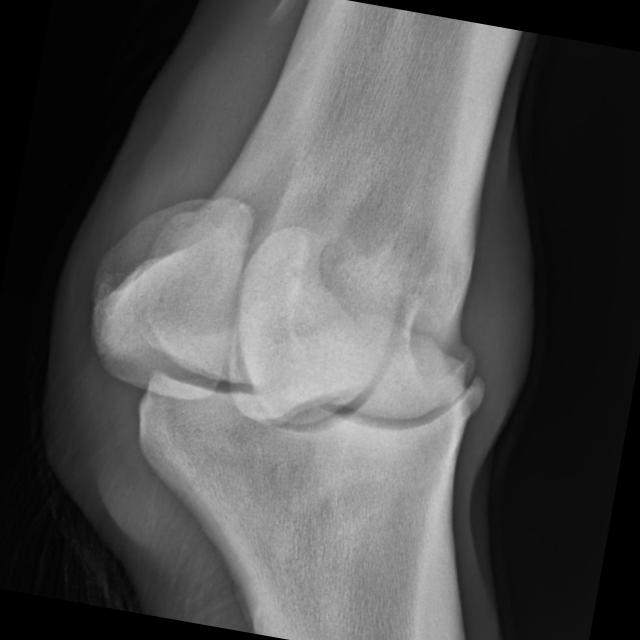bone remodeling: (402, 316, 514, 454)
